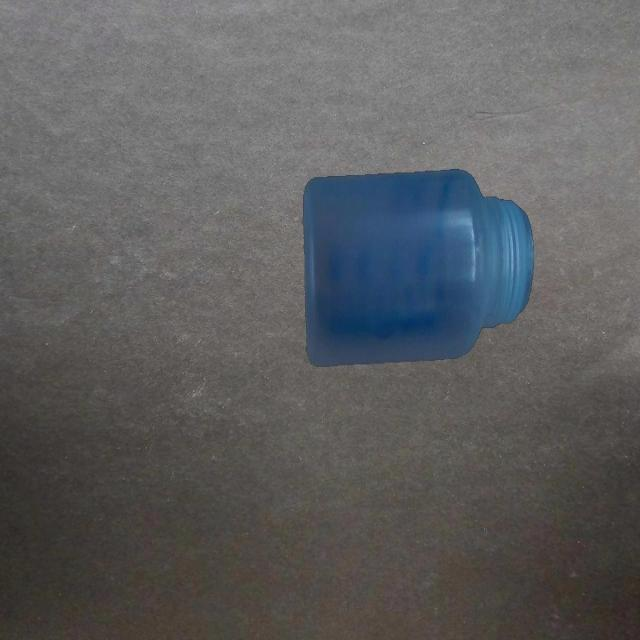bottle: (302, 167, 536, 370)
